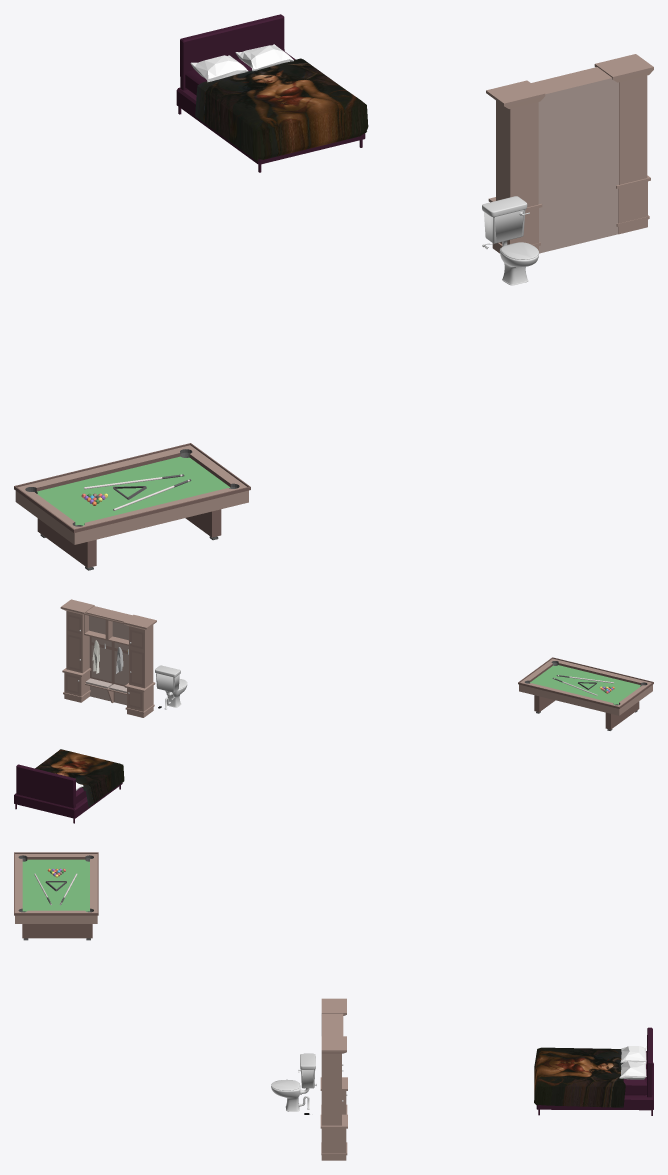
Rendered from map_assets_2.glb.
3 renders of one model, top to bottom at view 1: azimuth 30°, elevation 25°; view 2: azimuth 150°, elevation 25°; view 3: azimuth 270°, elevation 25°, orthographic. The views are drawn at different scales.
Visible parts, largest first — view 1: furniture_closet_organizer, Plane.261, furniture_game_pool, Plane.156; view 2: furniture_closet_organizer, Plane.261, furniture_game_pool, Plane.156; view 3: Plane.261, furniture_game_pool, furniture_closet_organizer, Plane.156.
Part boxes in pixels (left/top/right/bottom): furniture_closet_organizer: left=486, top=54, right=653, bottom=253; Plane.261: left=176, top=14, right=368, bottom=172; furniture_game_pool: left=14, top=443, right=250, bottom=570; Plane.156: left=482, top=196, right=538, bottom=285; furniture_closet_organizer: left=60, top=599, right=156, bottom=717; Plane.261: left=14, top=749, right=124, bottom=823; furniture_game_pool: left=518, top=657, right=653, bottom=730; Plane.156: left=155, top=665, right=187, bottom=709; Plane.261: left=534, top=1027, right=653, bottom=1115; furniture_game_pool: left=14, top=852, right=98, bottom=940; furniture_closet_organizer: left=320, top=998, right=347, bottom=1160; Plane.156: left=271, top=1053, right=316, bottom=1111.
Size of the model in its own units: 15.42 by 2.97 by 15.18.
9 materials, 2 textured.
